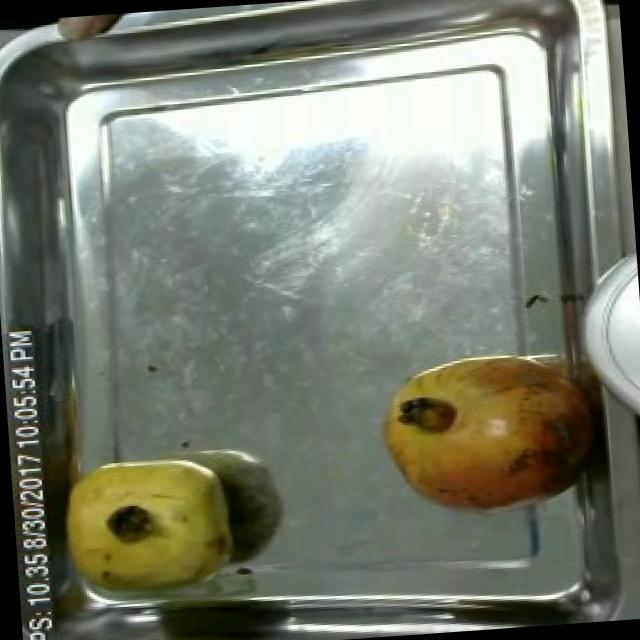fruit: (360, 337, 610, 537), (51, 444, 247, 605), (35, 12, 139, 47)
